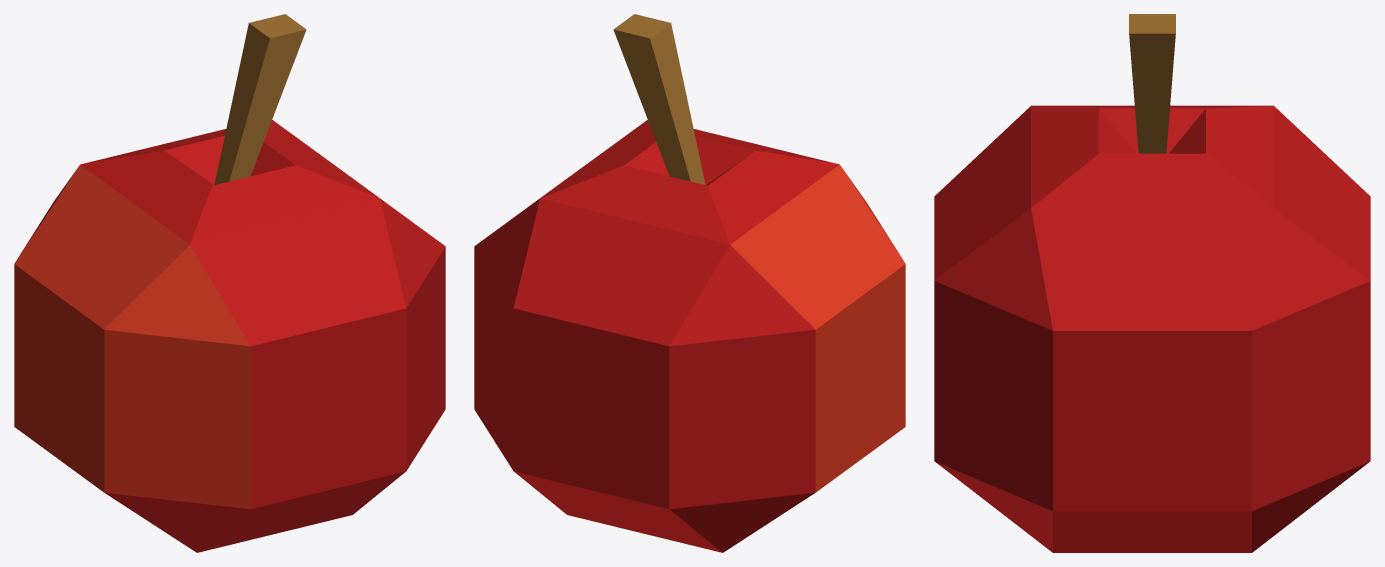
File: apple.fbx
The picture shows the model from 3 angles, left to right: view 1: azimuth 30°, elevation 25°; view 2: azimuth 150°, elevation 25°; view 3: azimuth 270°, elevation 25°; orthographic projection. The views are drawn at different scales.
Visible parts, largest first — view 1: apple; view 2: apple; view 3: apple.
Part boxes in pixels (x1=…): apple: x1=14, y1=14, x2=445, y2=552; apple: x1=474, y1=14, x2=905, y2=552; apple: x1=934, y1=14, x2=1370, y2=552.
Bounding box in the file's own units: 24.65 × 32.19 × 24.65.
